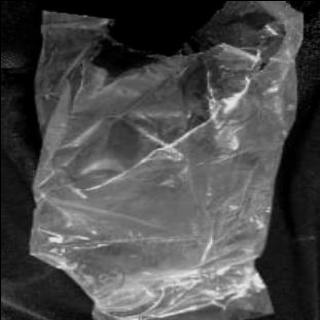objects: (31, 0, 301, 320)
